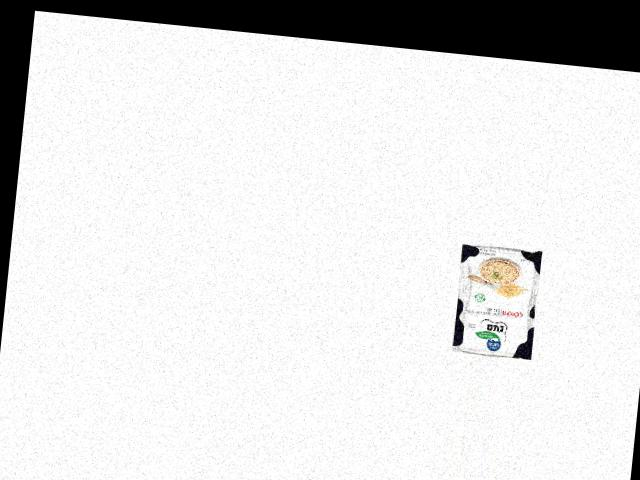cheese: (450, 241, 545, 361)
